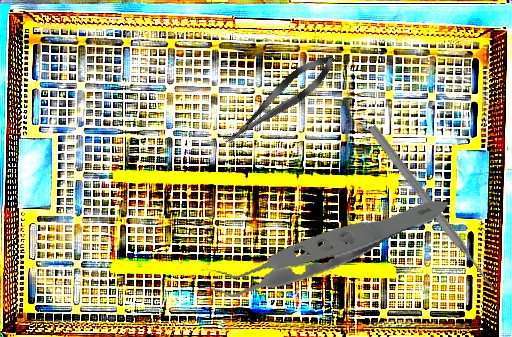Micro Scissor: (216, 46, 343, 154)
Pusher: (366, 123, 499, 294)
Tissue Forceps: (193, 155, 449, 335)
